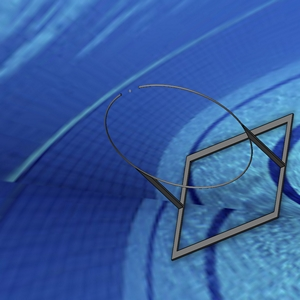circle: (173, 121, 293, 258), (103, 82, 252, 191)
